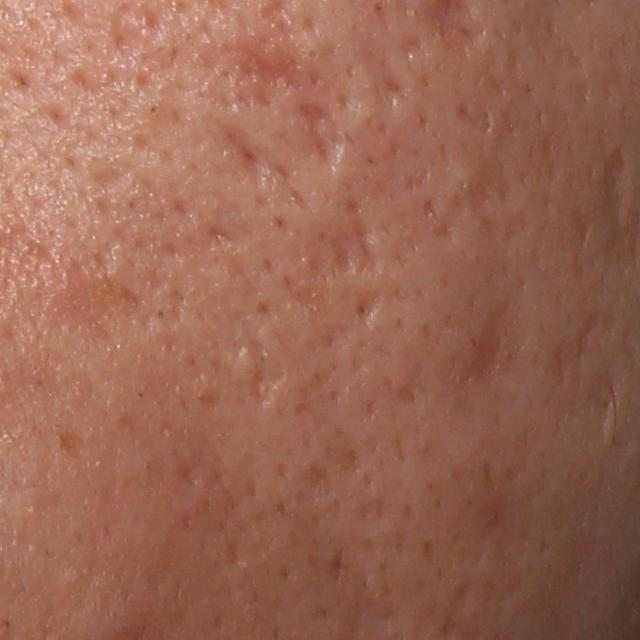atrophic_scar: (433, 135, 526, 238), (192, 36, 329, 100), (292, 201, 389, 288), (448, 293, 524, 395), (214, 115, 302, 193), (574, 145, 639, 250), (232, 331, 288, 410), (296, 98, 349, 171), (566, 367, 618, 440), (358, 41, 406, 103), (407, 144, 453, 192), (202, 214, 245, 252), (351, 287, 386, 328), (456, 97, 495, 133), (89, 161, 135, 188), (423, 196, 438, 220)
